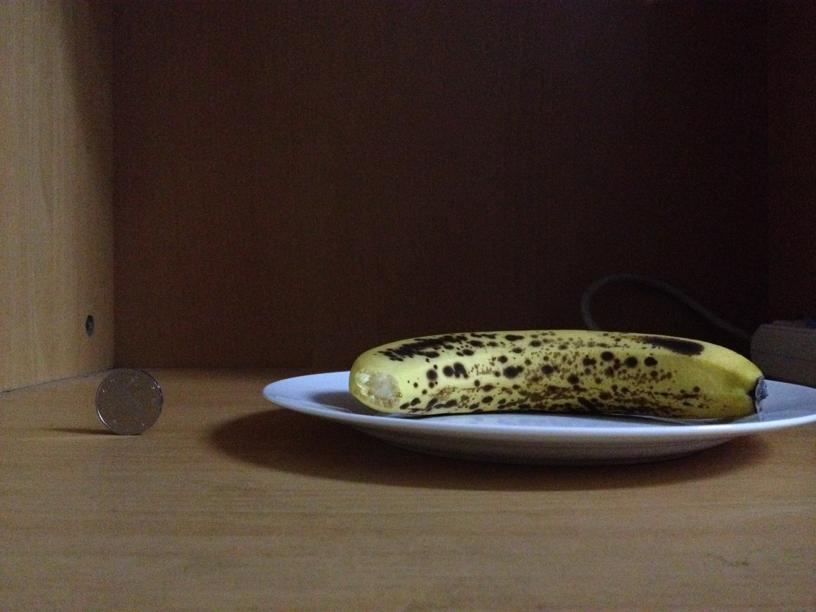banana: (343, 324, 767, 417)
coin: (95, 367, 165, 434)
